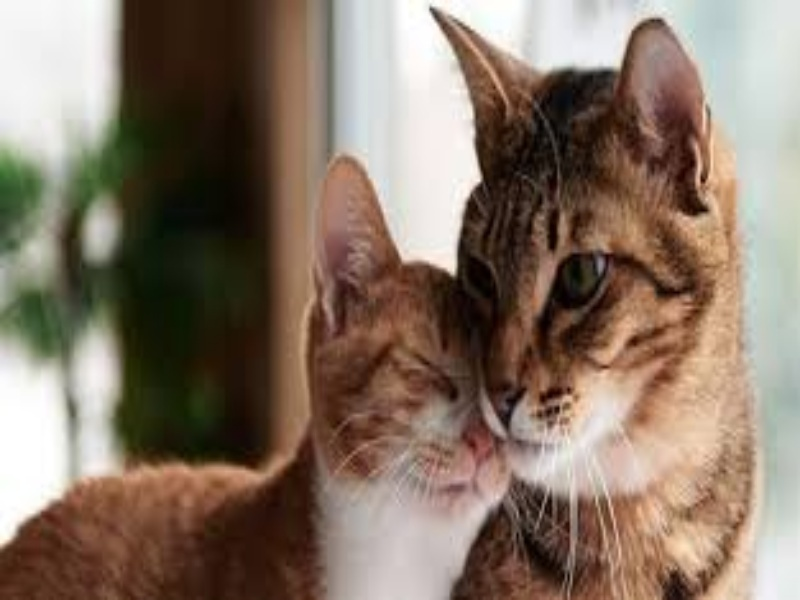cat: (12, 145, 504, 592), (428, 4, 800, 593)
